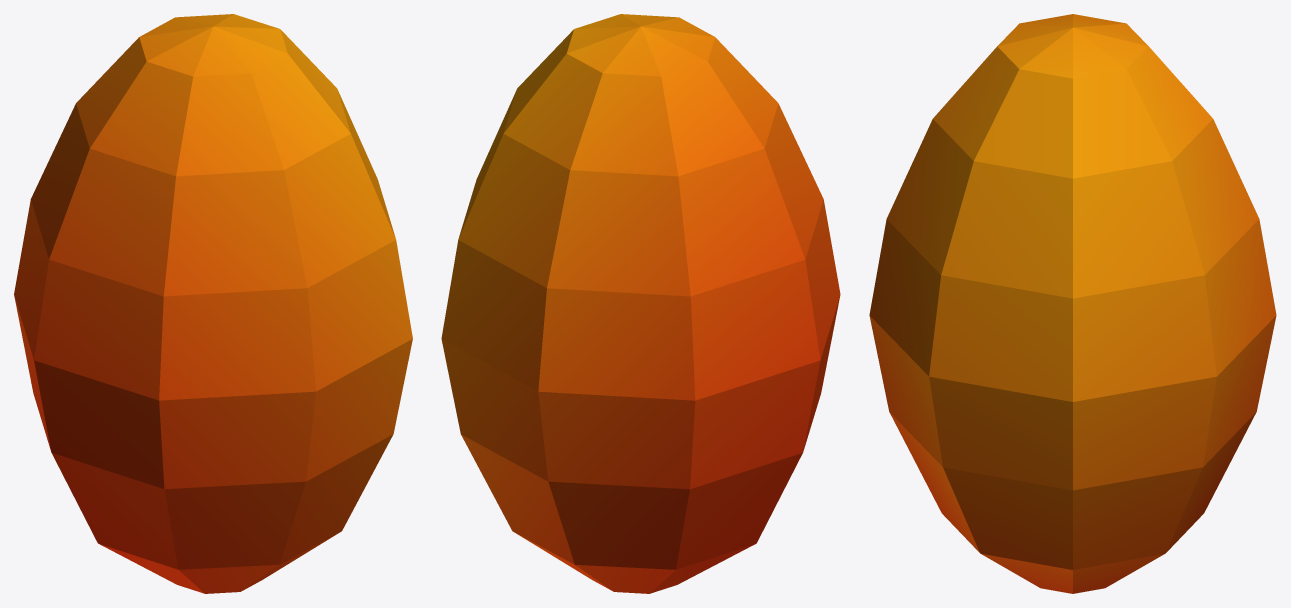
File: mango.glb
3 renders of one model, left to right at view 1: azimuth 30°, elevation 25°; view 2: azimuth 150°, elevation 25°; view 3: azimuth 270°, elevation 25°, orthographic.
Parts seen in each view (by area): view 1: mango; view 2: mango; view 3: mango.
Part boxes in pixels (x1,y1,x2,y2): mango: [14, 14, 412, 593]; mango: [441, 14, 840, 593]; mango: [869, 14, 1276, 593].
Bounding box in the file's own units: 0.5422 × 0.7995 × 0.5371.
Materials: 1 (1 with a texture image).
